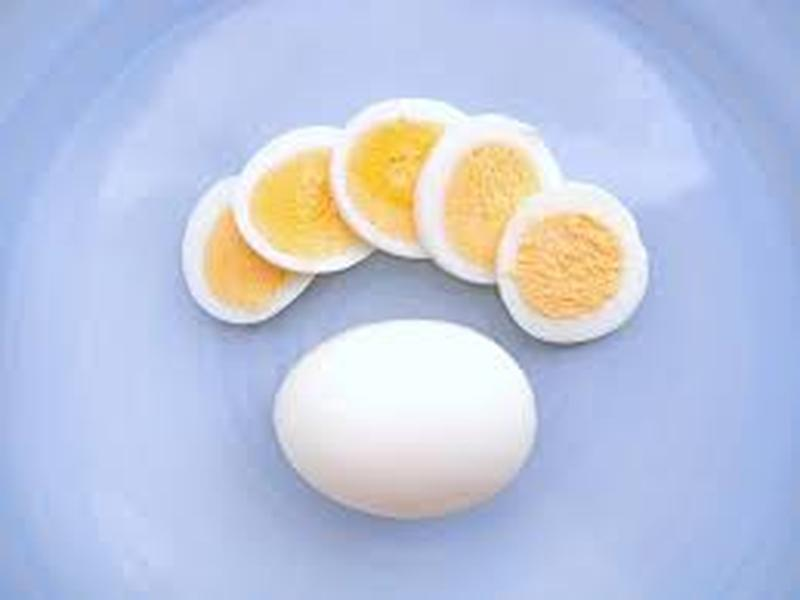egg: (125, 88, 711, 595)
